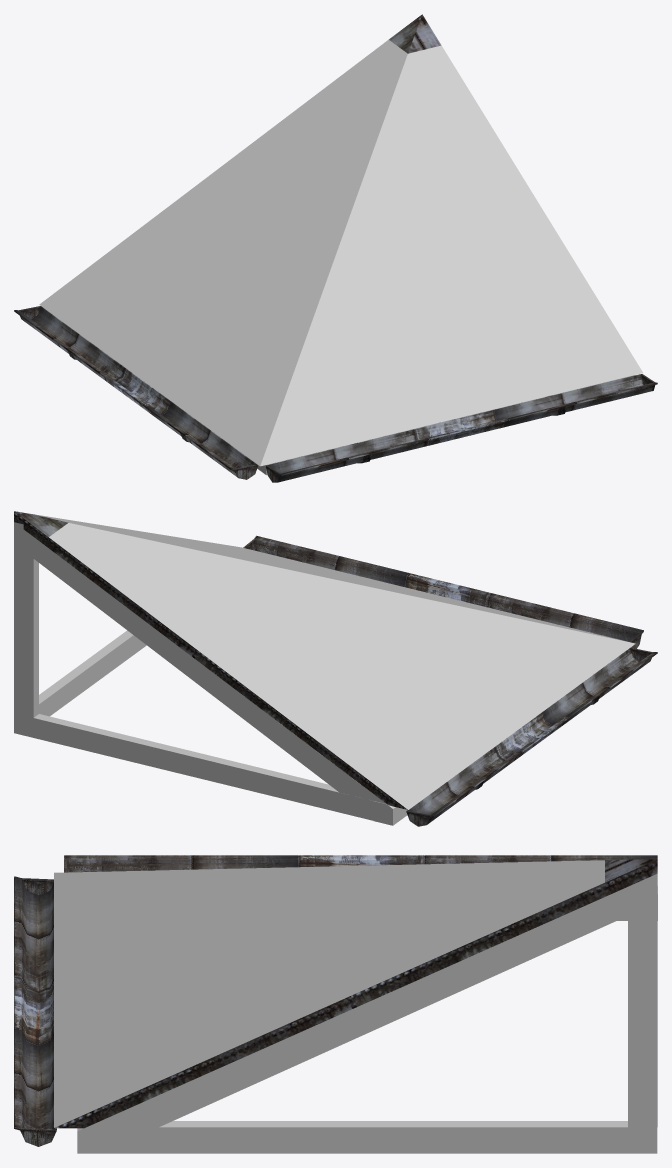
Rendered from factory_roof_03.DAE.
3 renders of one model, top to bottom at view 1: azimuth 30°, elevation 25°; view 2: azimuth 150°, elevation 25°; view 3: azimuth 270°, elevation 25°, orthographic. The views are drawn at different scales.
Visible parts, largest first — view 1: Box119, Box118; view 2: Box119, Object086, Box118; view 3: Box119, Object086, Box118.
Part boxes in pixels (x1,y1,x2,y2): Box119: (39,39,642,466); Box118: (14,14,657,482); Box119: (36,514,635,809); Object086: (14,522,407,825); Box118: (14,511,657,826); Box119: (54,860,604,1127); Object086: (77,873,657,1153); Box118: (14,855,657,1146).
Size of the model in its own units: 4.34 by 2.19 by 4.34.
